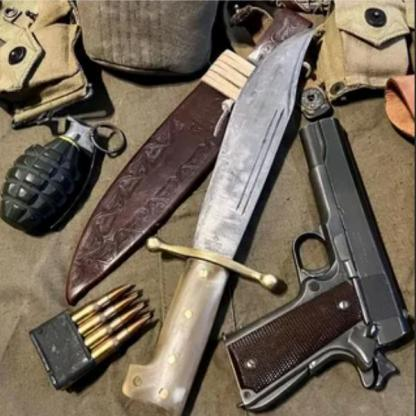Grenade: (0, 115, 127, 235)
Knife: (119, 26, 320, 416)
Pistol: (225, 114, 415, 416)
